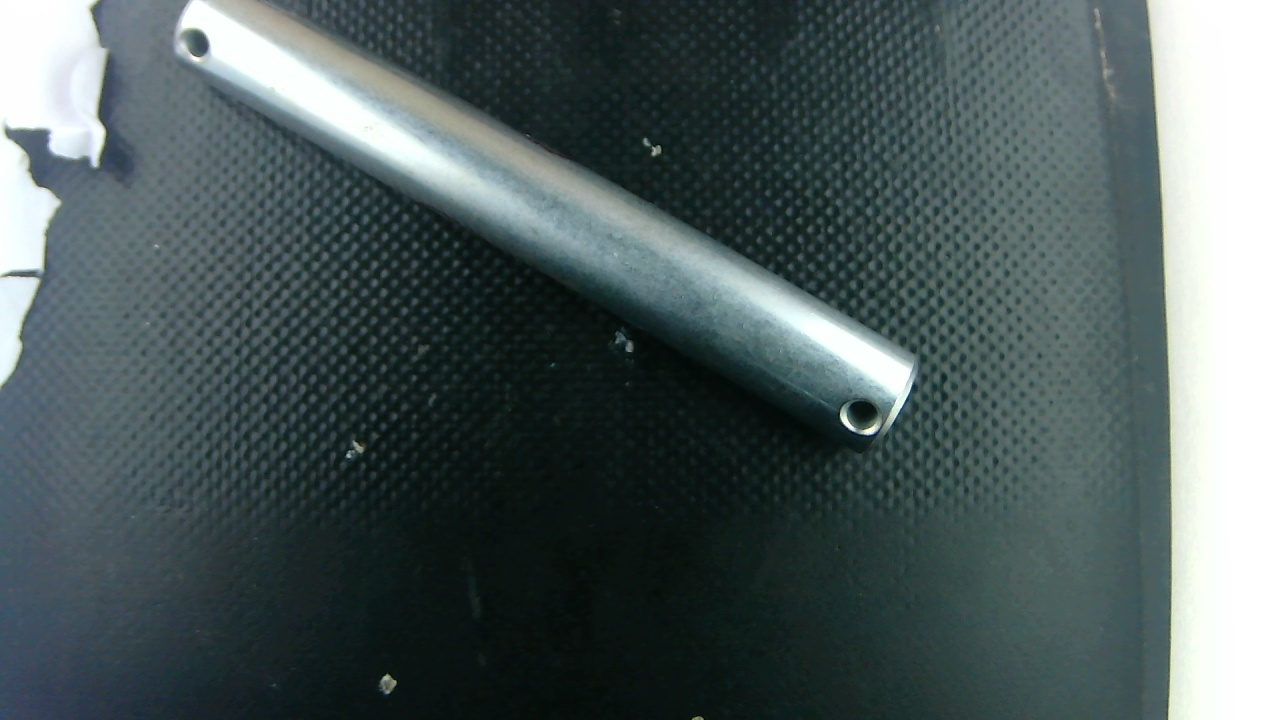Okay_Pin: (174, 0, 916, 450)
